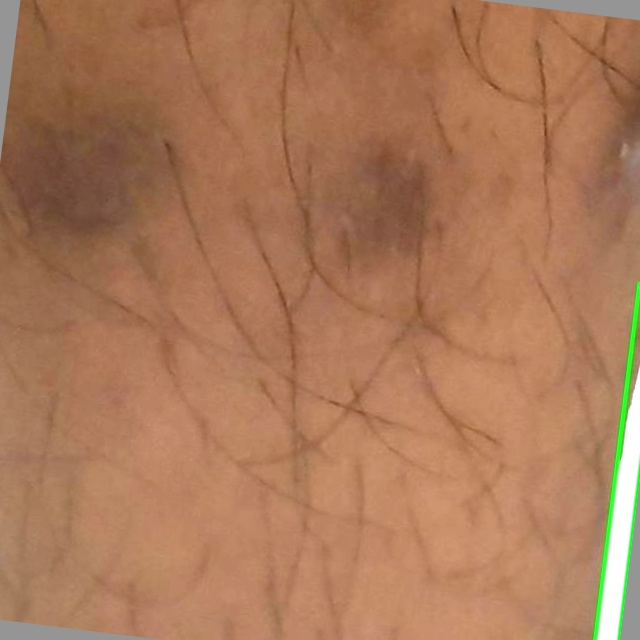Contact Dermatitis: (595, 284, 639, 639)
